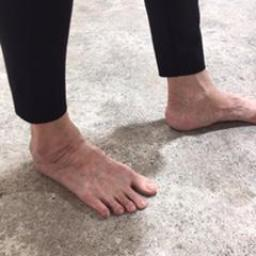Lateral View -Right Foot-: (18, 107, 161, 226)
